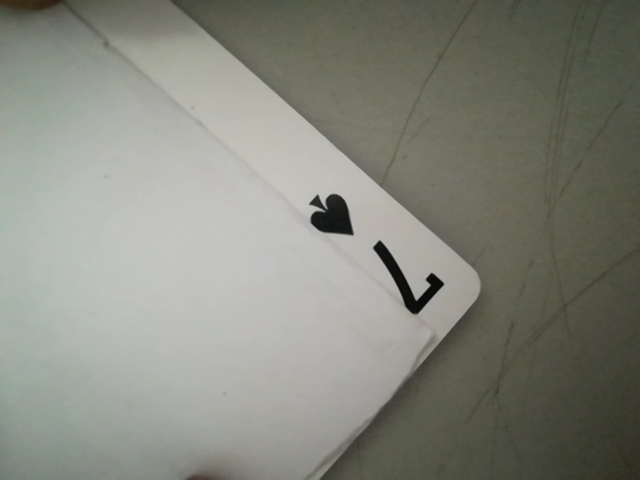ht 7: (292, 185, 467, 324)
